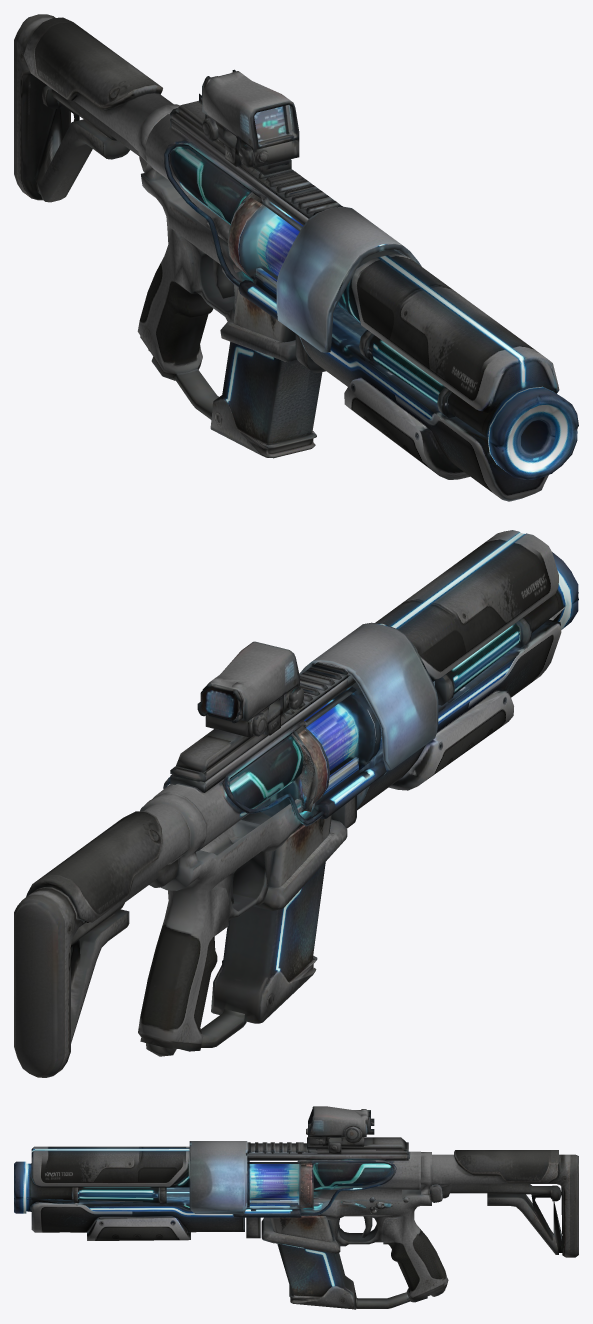
The model's file is laser-cannon.glb.
3 views of the same model, one above another, from view 1: azimuth 30°, elevation 25°; view 2: azimuth 150°, elevation 25°; view 3: azimuth 270°, elevation 25° (orthographic). The views are drawn at different scales.
Parts seen in each view (by area): view 1: tripo_node_aa3721d5-20be-47ab-b4e6-33979e666068; view 2: tripo_node_aa3721d5-20be-47ab-b4e6-33979e666068; view 3: tripo_node_aa3721d5-20be-47ab-b4e6-33979e666068.
Boxes of the visible parts, left/top/right/bottom form: tripo_node_aa3721d5-20be-47ab-b4e6-33979e666068: left=14, top=14, right=578, bottom=501; tripo_node_aa3721d5-20be-47ab-b4e6-33979e666068: left=14, top=530, right=578, bottom=1077; tripo_node_aa3721d5-20be-47ab-b4e6-33979e666068: left=14, top=1106, right=578, bottom=1309.
Size of the model in its own units: 0.127 by 0.3809 by 0.998.
Materials: 1 (1 with a texture image).
